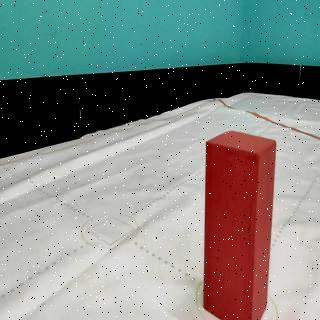redbox: (204, 130, 276, 320)
